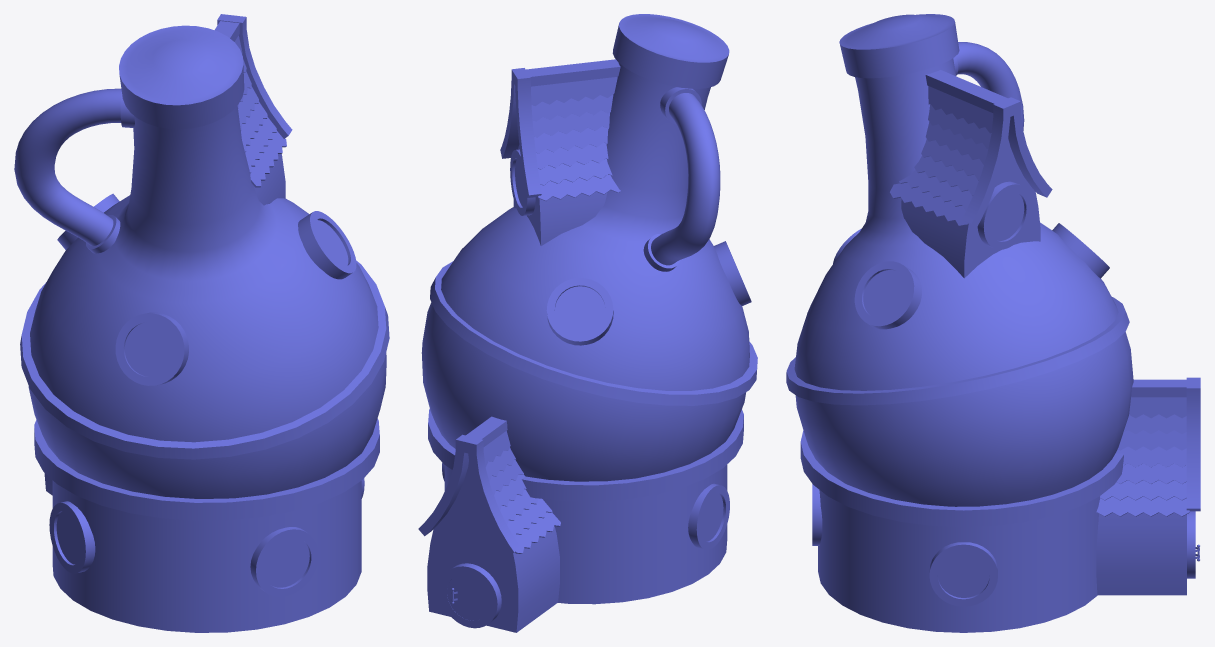
Rendered from BottleHouseSingleMat.fbx.
3 views of the same model, side by side, from view 1: azimuth 30°, elevation 25°; view 2: azimuth 150°, elevation 25°; view 3: azimuth 270°, elevation 25° (orthographic). The views are drawn at different scales.
Visible parts, largest first — view 1: HouseSingleMat; view 2: HouseSingleMat; view 3: HouseSingleMat.
Boxes of the visible parts, box(x1,y1,x2,y2) form: HouseSingleMat: box(14, 14, 389, 632); HouseSingleMat: box(418, 14, 757, 632); HouseSingleMat: box(786, 14, 1200, 632).
Bounding box in the file's own units: 3.72 × 6.17 × 4.39.
